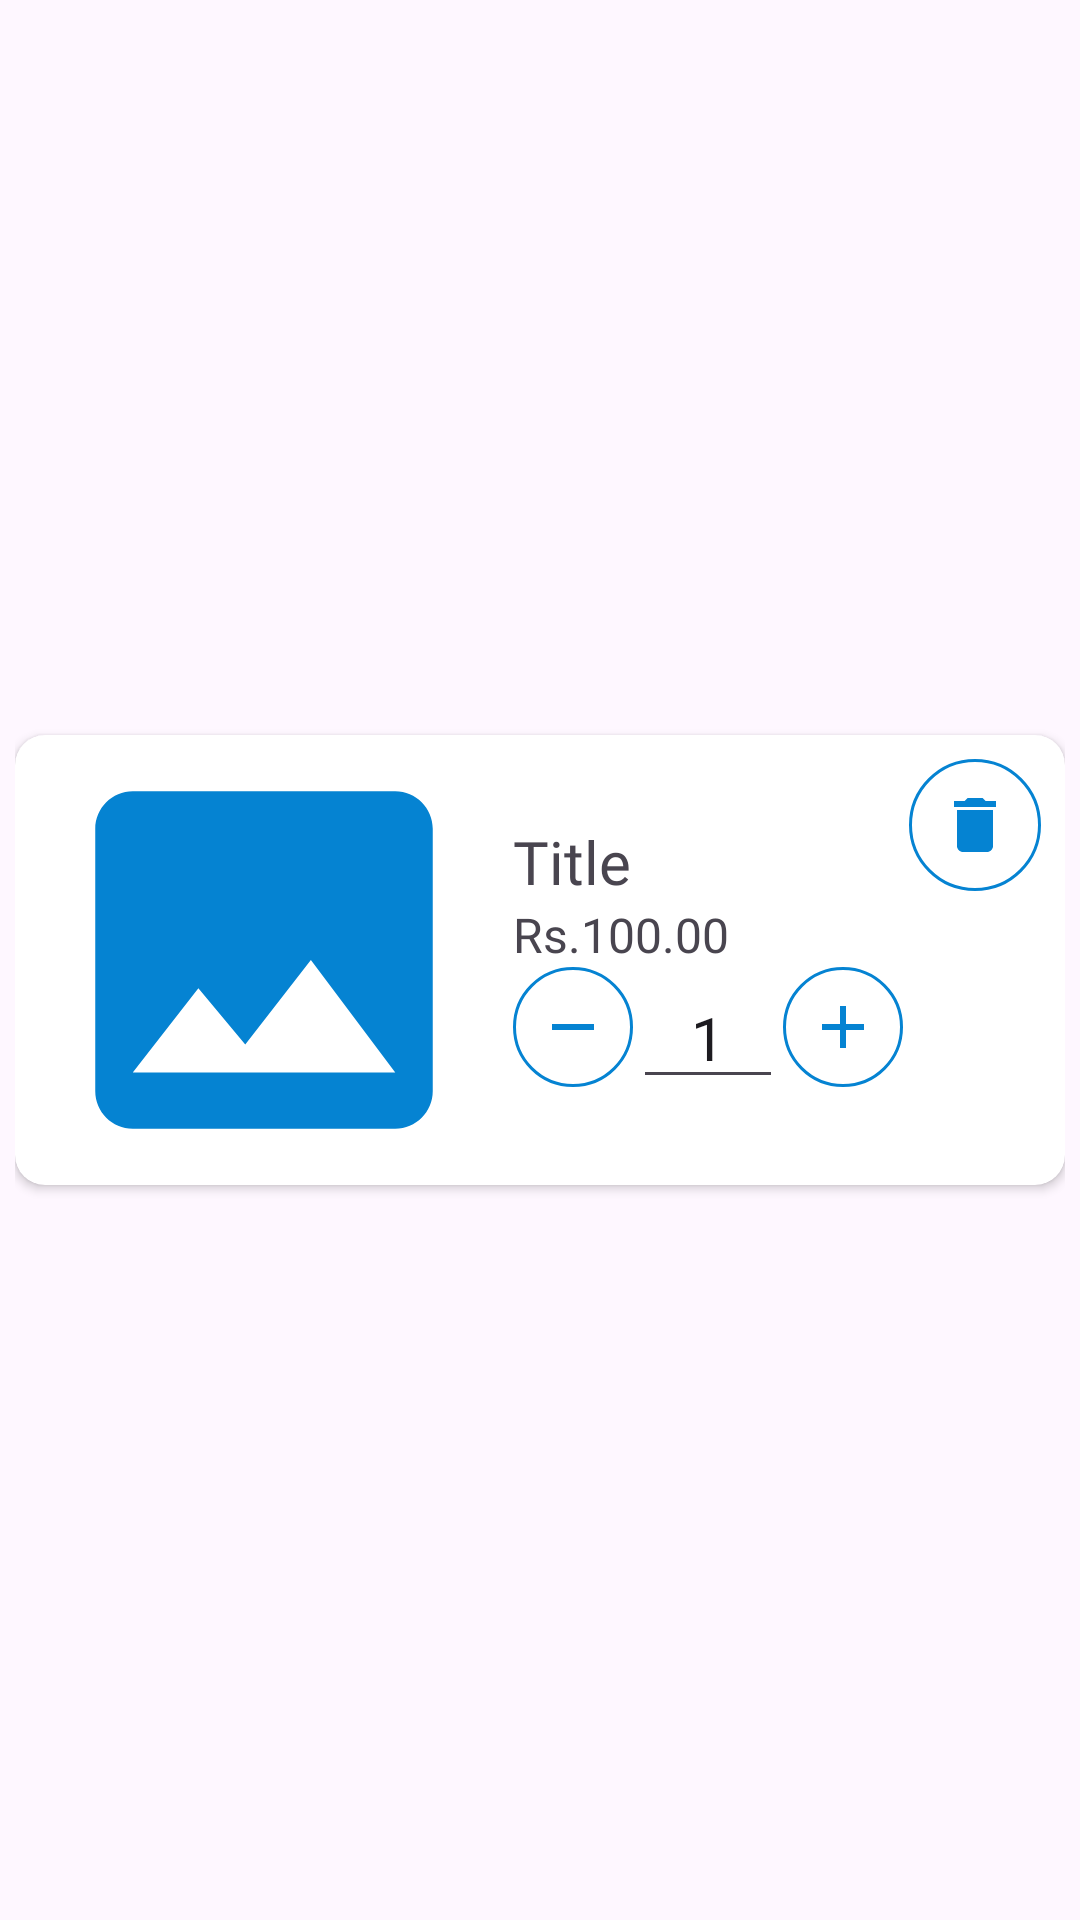

Where icons sit on this 1080px×1920px app screen, as (x1, y1, x2, y2):
add: (783, 967, 903, 1087)
delete: (909, 759, 1041, 891)
remove: (513, 967, 633, 1087)
